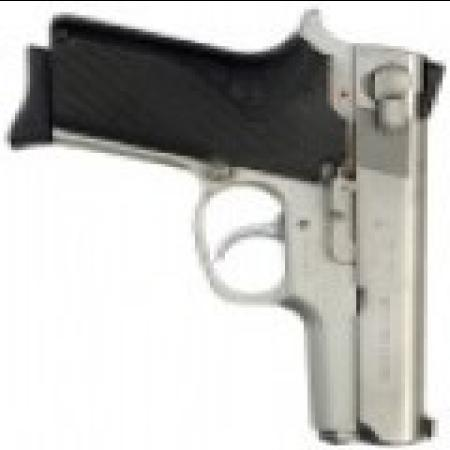Pistol: (23, 17, 435, 447)
